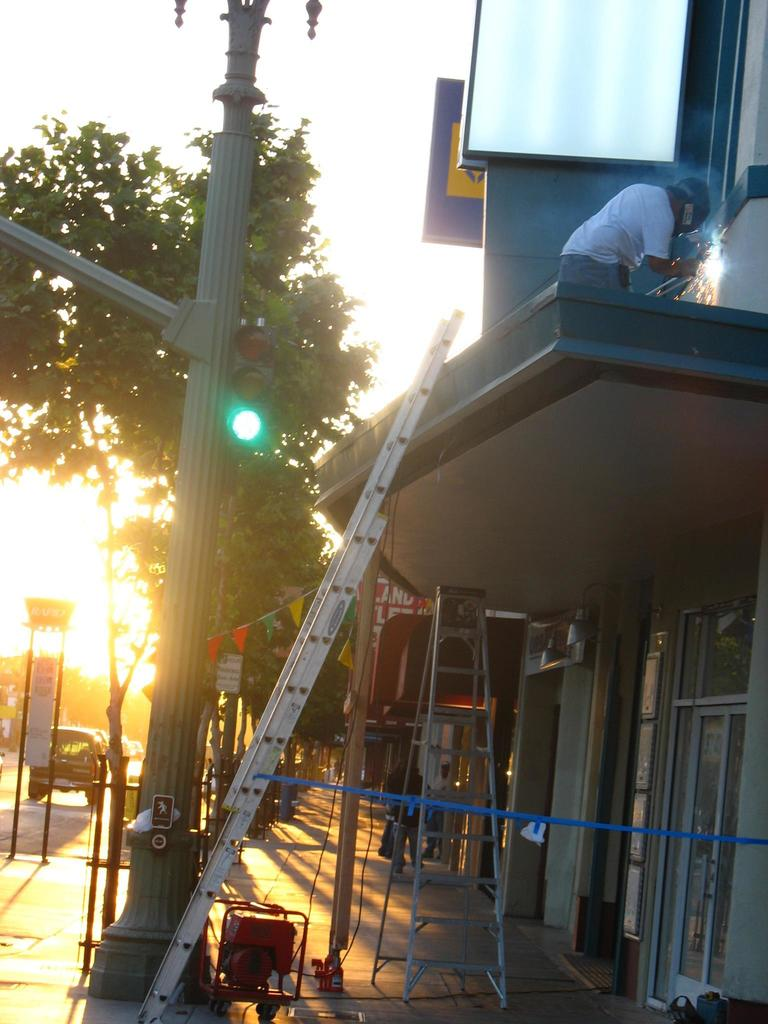Tree: (0, 91, 374, 859)
